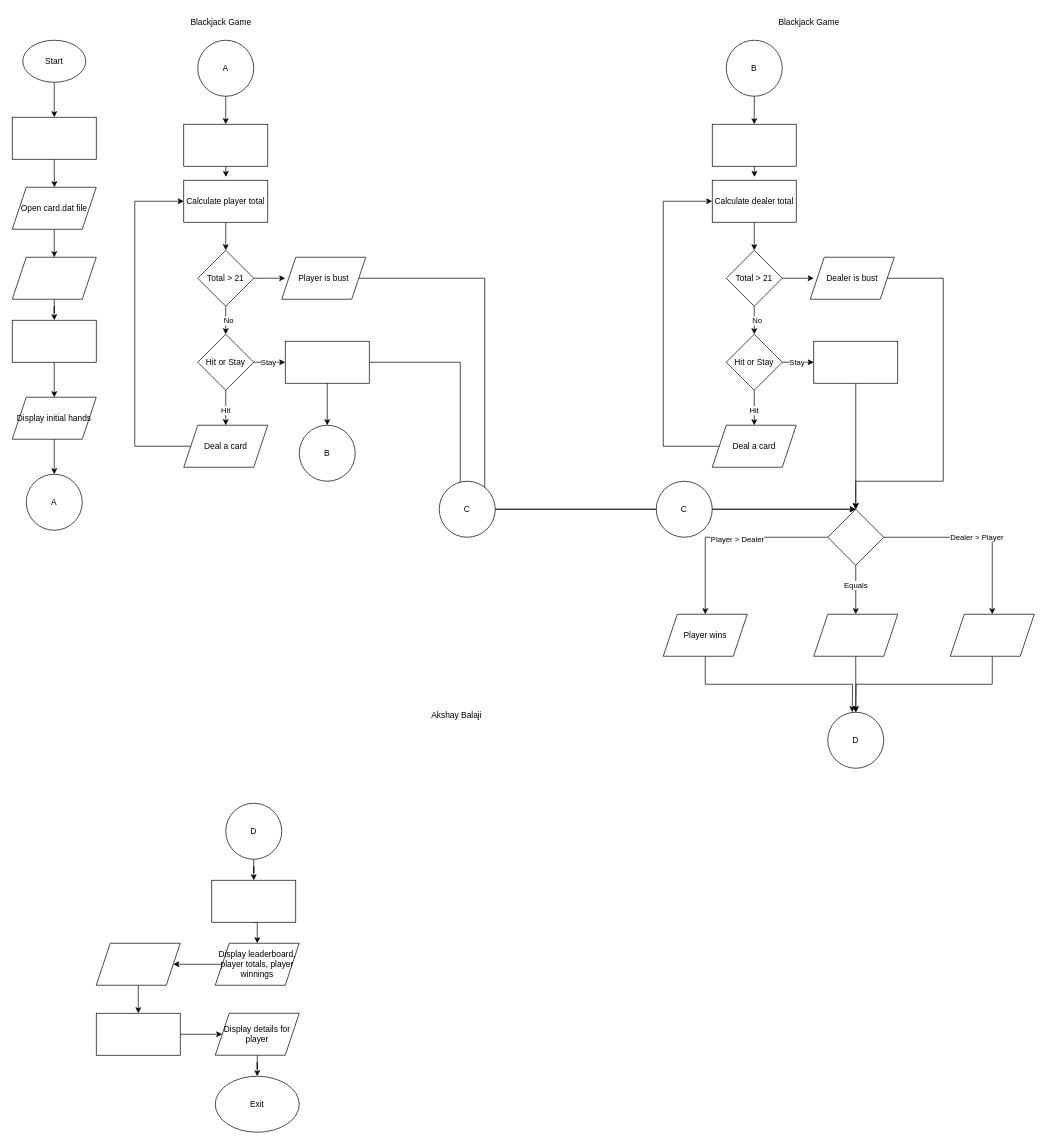
The diagram is 1047 pixels wide and 1145 high, and some of its shapes have lost their labels. Here are the shapes that lost their labels. From the top down, the centre of each, then its label:
At point (54, 138): "Initialize deck (random generator)".
At point (225, 145): "Initialize player total with hand dealt".
At point (754, 145): "Initialize dealer total with hand dealt".
At point (54, 278): "Input player name".
At point (54, 341): "Deal player and dealer cards".
At point (327, 362): "Final Player Total".
At point (855, 362): "Final Dealer Total".
At point (855, 537): "Compare totals".
At point (855, 635): "It is a tie".
At point (992, 635): "Dealer wins".
At point (253, 901): "Compile leaderboard, player totals, player winnings".
At point (138, 964): "Get player name to search".
At point (138, 1034): "Search for player and get totals for the player".
